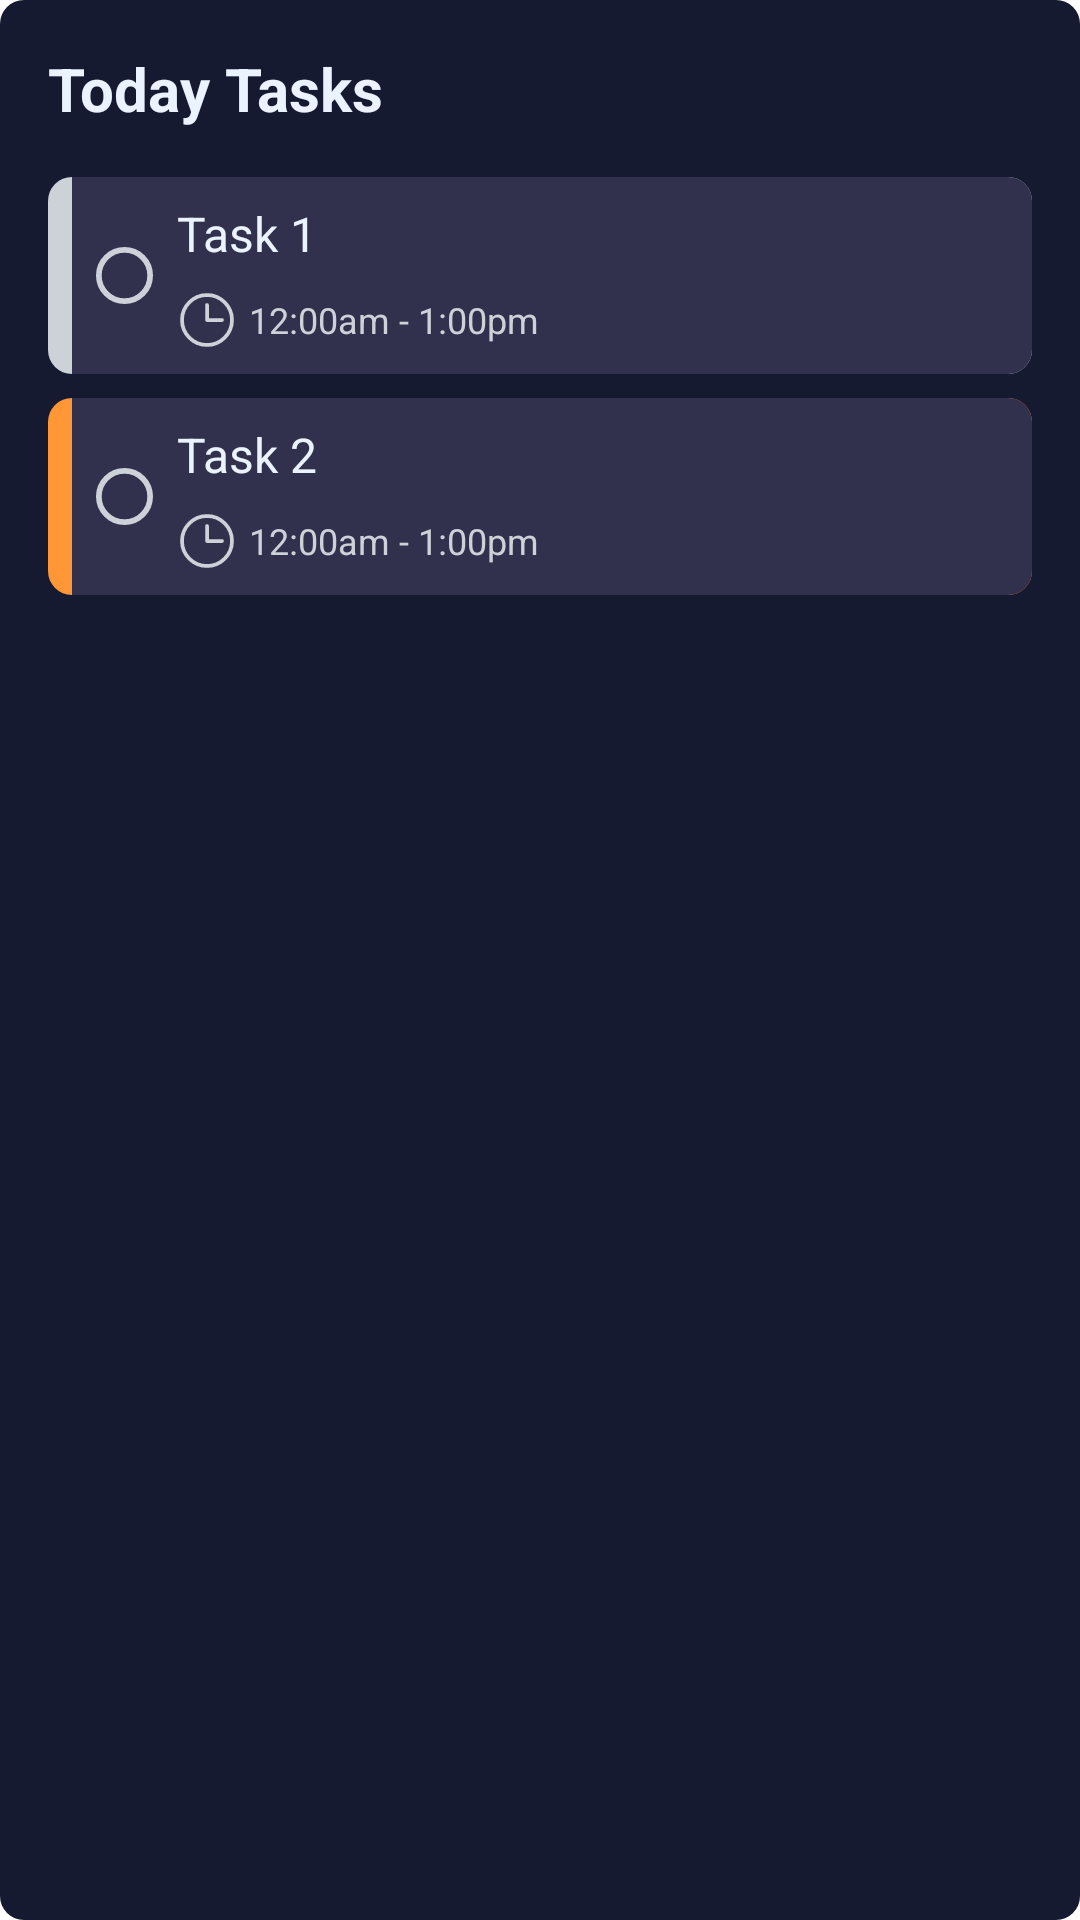

Named icons in this screenshot (1080px x 1920px) and their bounding boxes, [left=x1, top=y1, right=x2, bottom=y2]:
Clock Icon: [left=180, top=293, right=234, bottom=347], [left=180, top=514, right=234, bottom=568]
Unchecked Circle: [left=96, top=247, right=153, bottom=304], [left=96, top=468, right=153, bottom=525]
